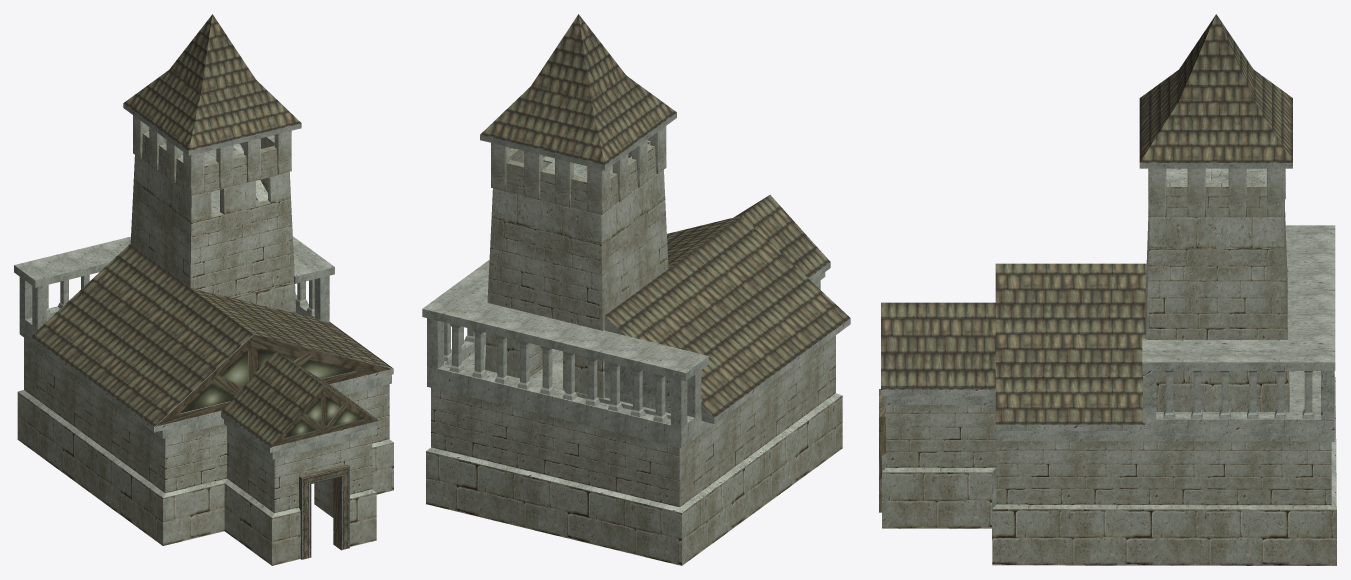
File: towerD.FBX
3 renders of one model, left to right at view 1: azimuth 30°, elevation 25°; view 2: azimuth 150°, elevation 25°; view 3: azimuth 270°, elevation 25°, orthographic. The views are drawn at different scales.
Visible parts, largest first — view 1: tower_D, tower_D_walls, tower_D_tower, tower_D_sealing, tower_D_verand, tower_D_door; view 2: tower_D, tower_D_walls, tower_D_tower, tower_D_sealing, tower_D_verand; view 3: tower_D_walls, tower_D, tower_D_tower, tower_D_verand, tower_D_sealing, tower_D_door.
Part boxes in pixels (<box>): tower_D: <box>30,14,393,452</box>; tower_D_walls: <box>17,338,393,565</box>; tower_D_tower: <box>130,115,296,313</box>; tower_D_sealing: <box>19,275,391,459</box>; tower_D_verand: <box>14,236,334,287</box>; tower_D_door: <box>299,464,349,559</box>; tower_D: <box>444,14,850,423</box>; tower_D_walls: <box>426,280,842,565</box>; tower_D_tower: <box>485,126,668,398</box>; tower_D_sealing: <box>427,272,836,448</box>; tower_D_verand: <box>422,260,708,381</box>; tower_D_walls: <box>882,377,1336,565</box>; tower_D: <box>881,14,1320,430</box>; tower_D_tower: <box>1145,168,1289,411</box>; tower_D_verand: <box>1142,225,1335,370</box>; tower_D_sealing: <box>883,371,1334,441</box>; tower_D_door: <box>879,389,885,512</box>.
Bounding box in the file's own units: 16.13 × 27.08 × 22.37.
